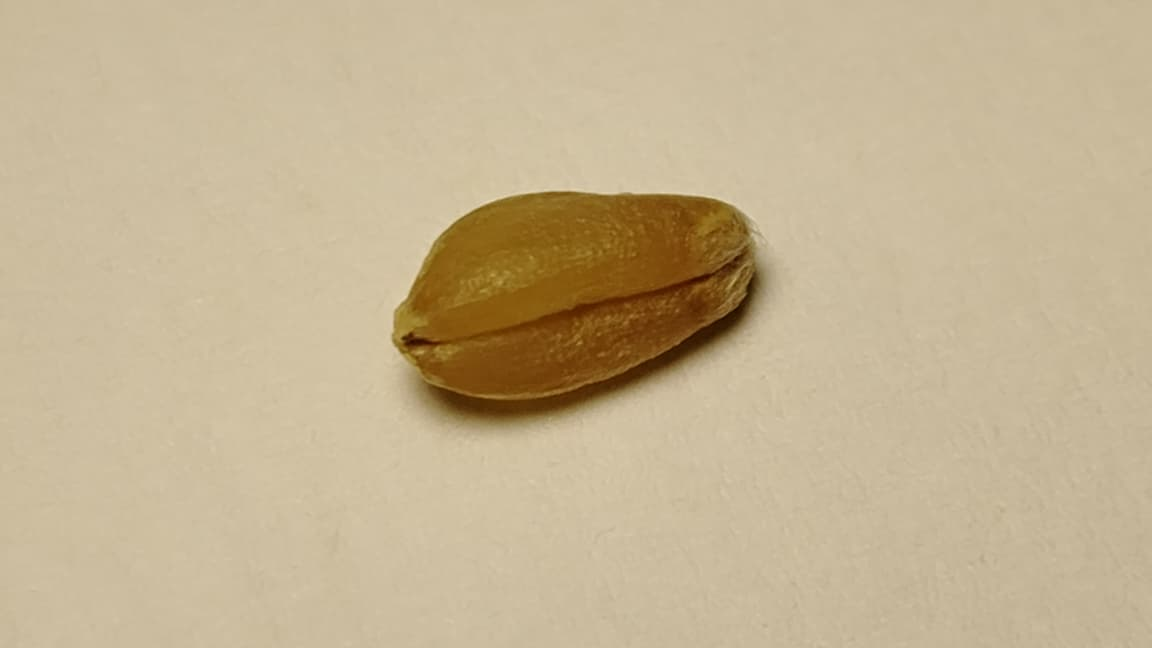healthy: (394, 191, 753, 399)
